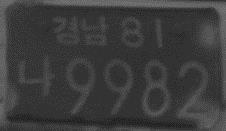1: (153, 16, 164, 49)
2: (175, 57, 211, 122)
8: (139, 56, 171, 119), (119, 15, 145, 48)
9: (102, 56, 135, 117), (65, 56, 96, 117)
경남_O: (50, 14, 110, 48)
나: (17, 53, 56, 101)
